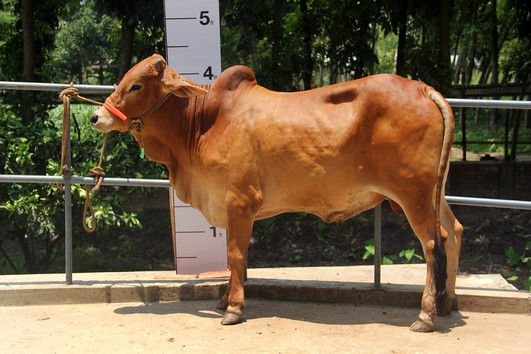cow: (85, 49, 469, 339)
